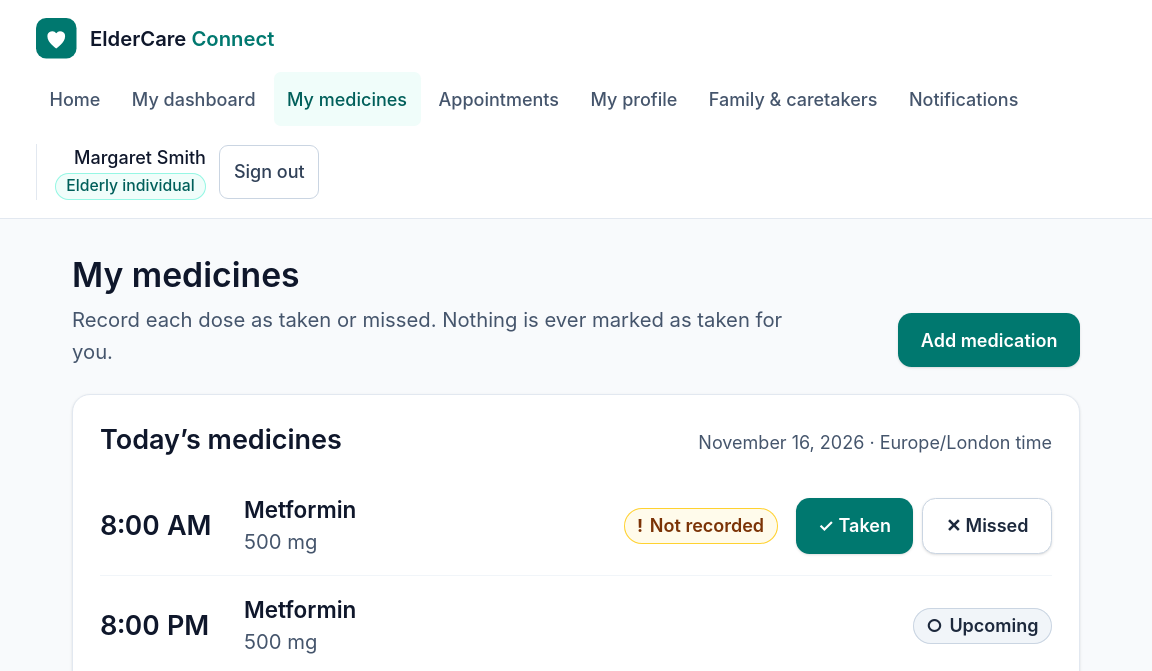
Test: elderly medication dashboard › shows today's doses with text status labels and records a dose
Expected: the element with test id "dose-status" shows "Not recorded", [650,515,764,536]
Expected: the element with test id "dose-status" shows "Upcoming", [949,615,1038,636]
Click the button with aria-label "as taken" at [854, 526], box [796,498,913,554]
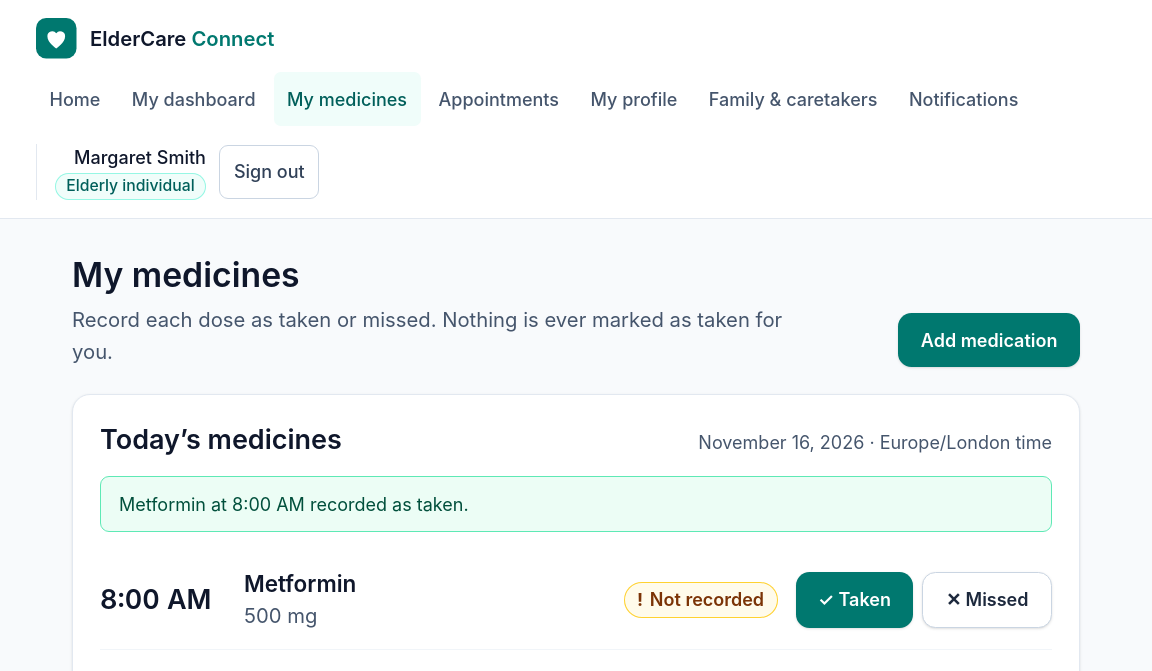
Expected: the text "Metformin at 8:00 AM recorded as taken." is shown, [100,476,1052,532]
